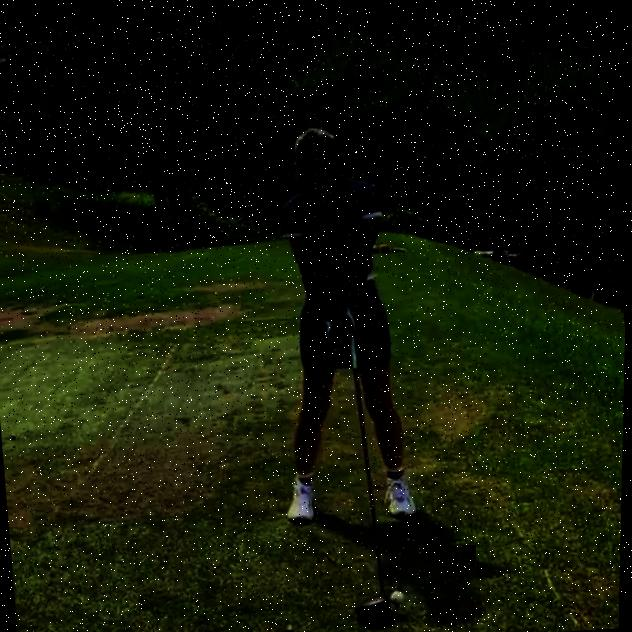ClubHead: (357, 590, 395, 618)
GolfBall: (392, 586, 408, 602)
